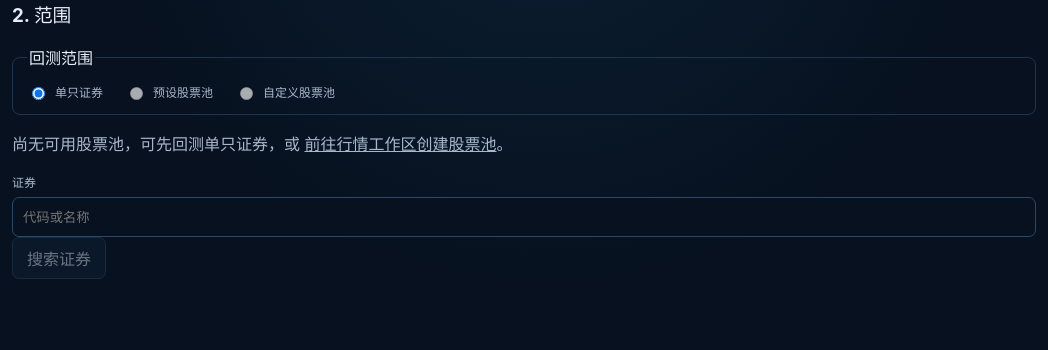
Test: aborts and clears search busy state when the query changes, then ignores stale results
The image size is (1048, 350).
In the field labelled "证券": (524, 217) [12,197,1036,237], type "浦发"
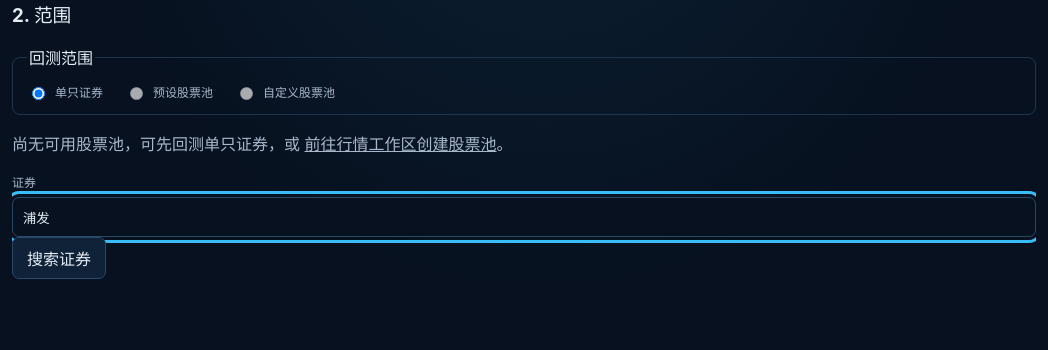
Click the button "搜索证券": click(59, 258) [12,237,106,279]
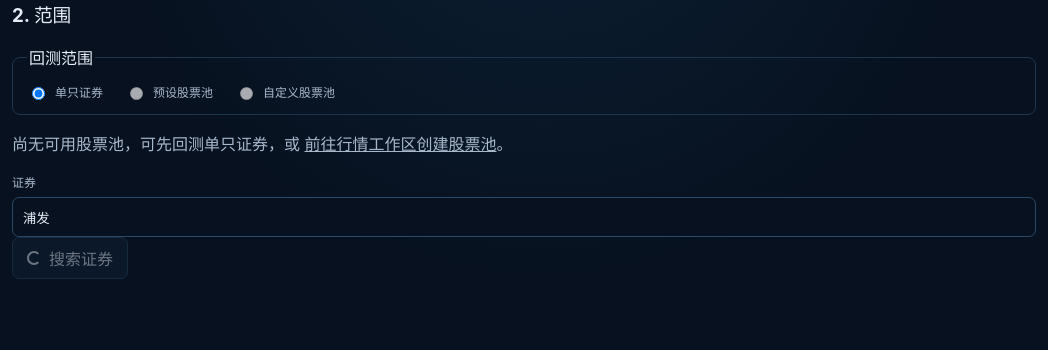
Expected: the button "搜索证券" is shown, [12,237,128,279]
Result: the button "搜索证券" is disabled at [12,237,128,279]
Replace the text in the field labelled "证券" with "平安": (524, 217) [12,197,1036,237]
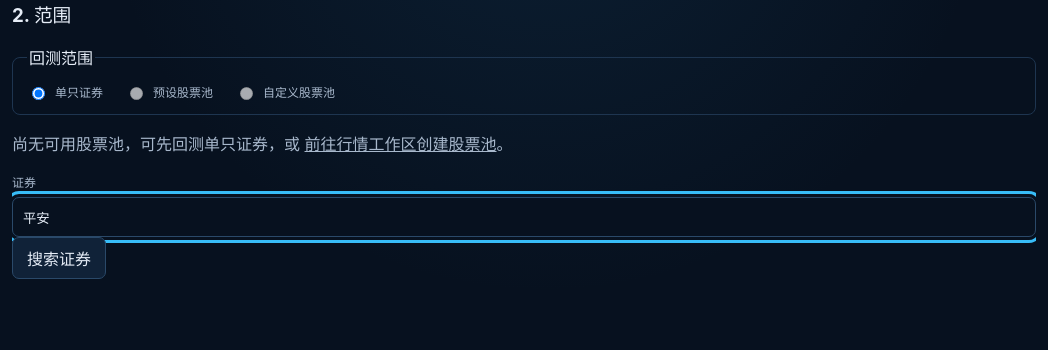
Result: the button "搜索证券" is enabled
Click the button "搜索证券": click(59, 258) [12,237,106,279]
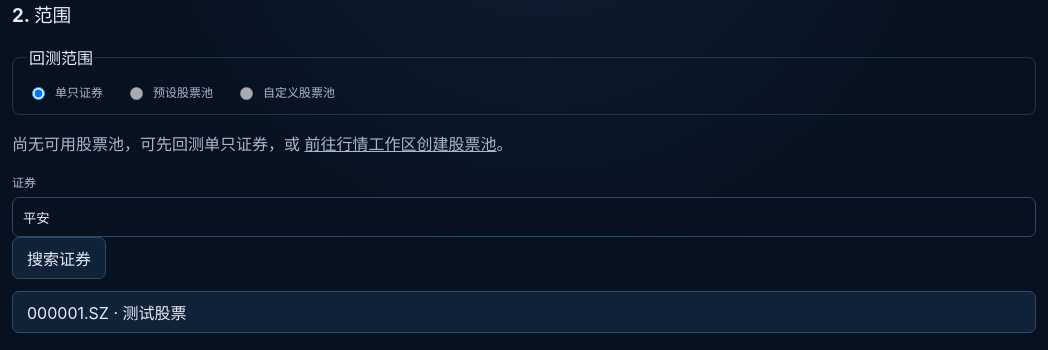
Result: the button "000001.SZ · 测试股票" is shown at [12,291,1036,333]
